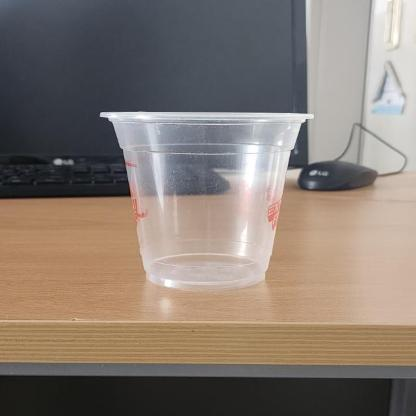Plastic Cup: (99, 110, 315, 288)
